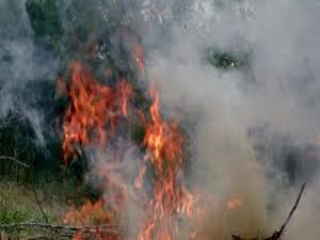fire: (141, 98, 198, 233), (59, 62, 133, 147)
